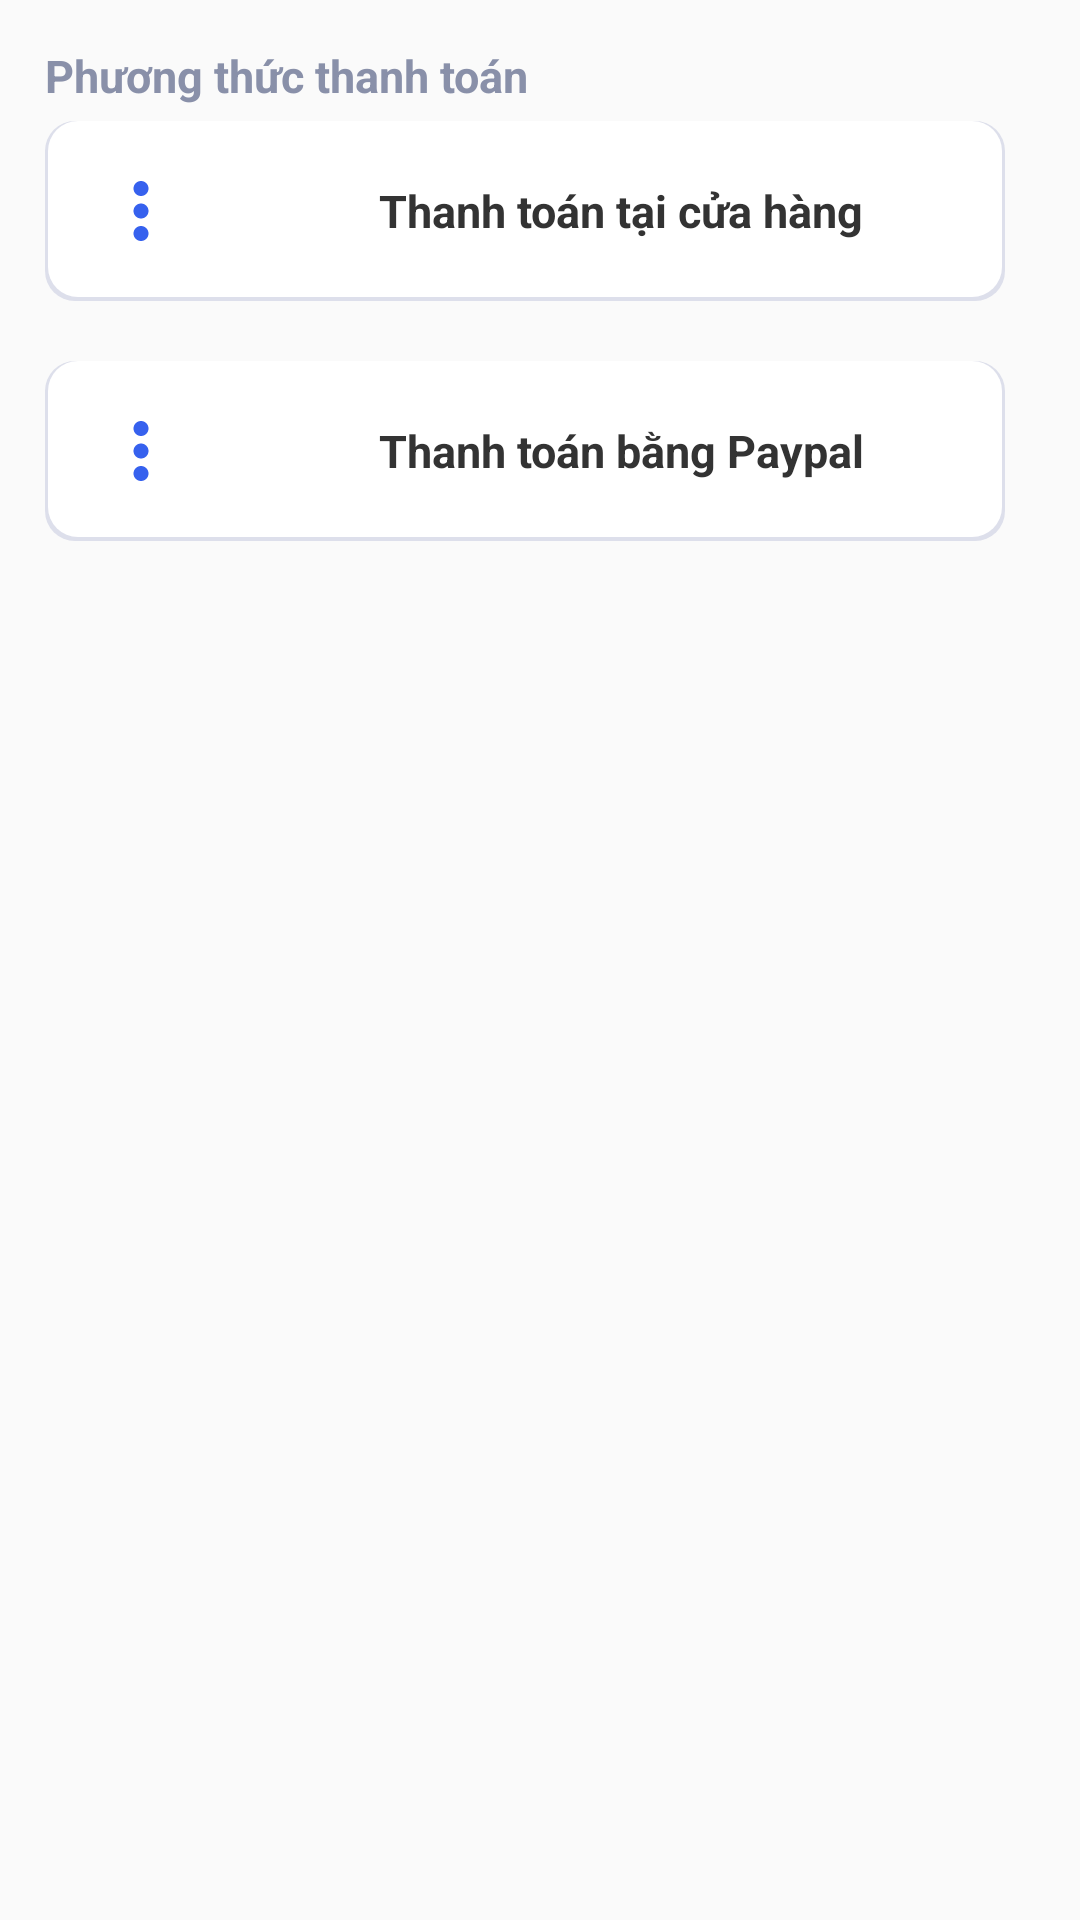

Icon bounding boxes for this 1080 × 1920 phone screenshot, format (x1, y1, x2, y2):
three dots: (133, 181, 149, 241), (133, 421, 149, 481)
